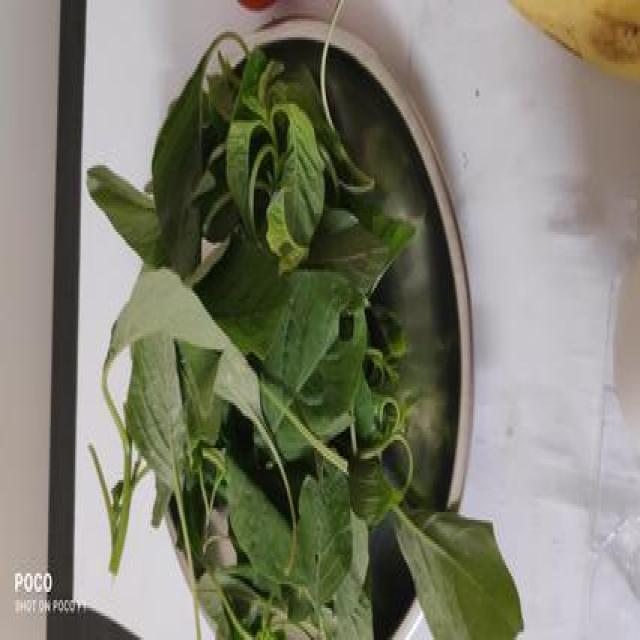Fresh_Spinach: (67, 55, 472, 610)
